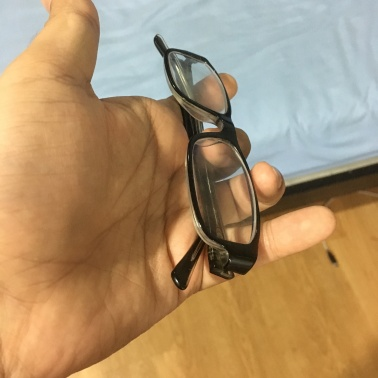glasses: (145, 20, 256, 282)
